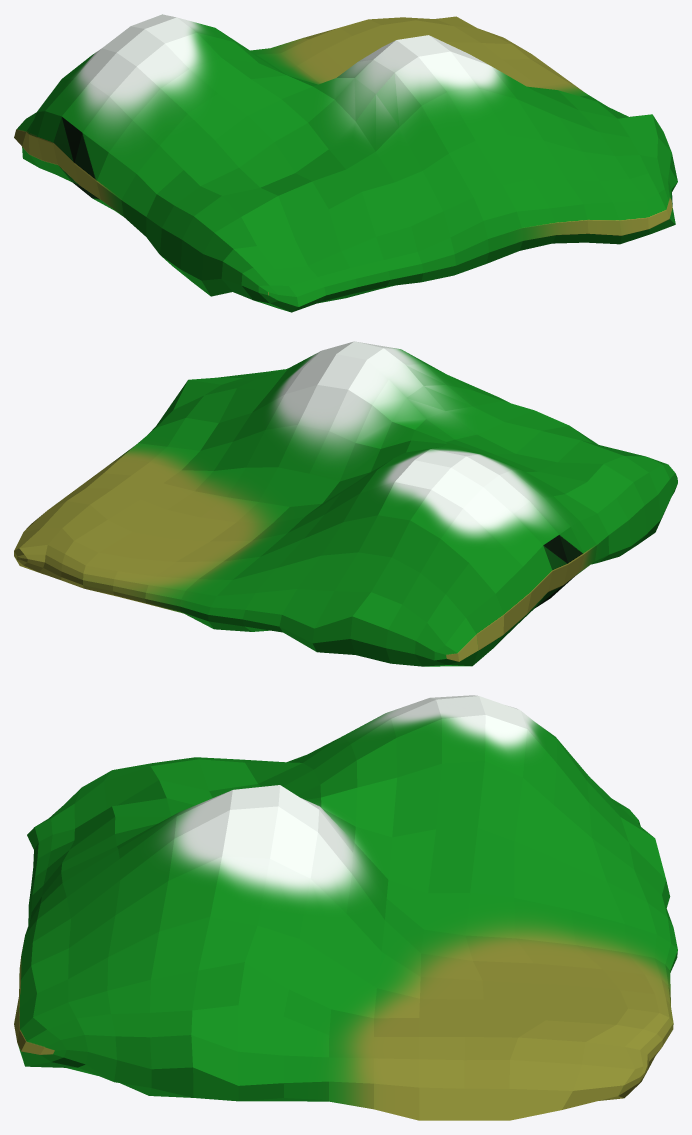
File: mountain_island.fbx
3 views of the same model, one above another, from view 1: azimuth 30°, elevation 25°; view 2: azimuth 150°, elevation 25°; view 3: azimuth 270°, elevation 25° (orthographic). The views are drawn at different scales.
Parts seen in each view (by area): view 1: Cube; view 2: Cube; view 3: Cube.
Part boxes in pixels (<box>): Cube: <box>14,14,677,312</box>; Cube: <box>14,341,677,666</box>; Cube: <box>14,695,677,1120</box>.
Bounding box in the file's own units: 6919 × 2054 × 6432.
